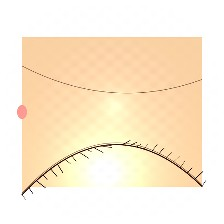corneal_ulcer: (79, 98, 138, 145)
